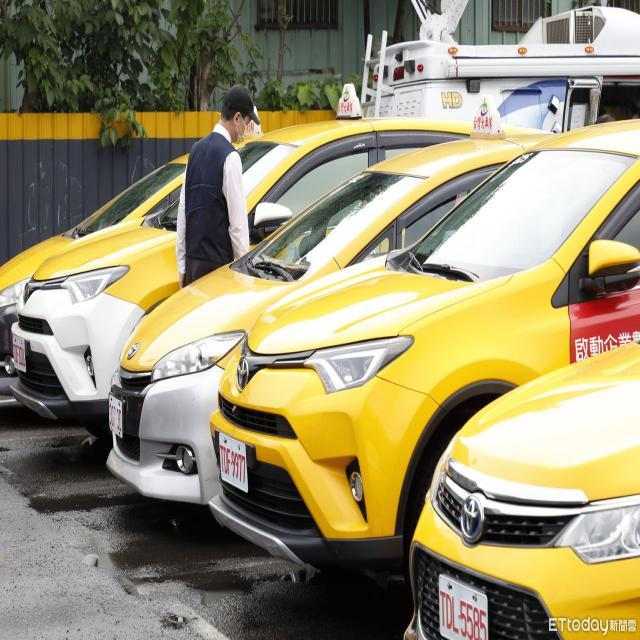taxi: (112, 82, 500, 522), (239, 120, 640, 538), (423, 370, 640, 630)
